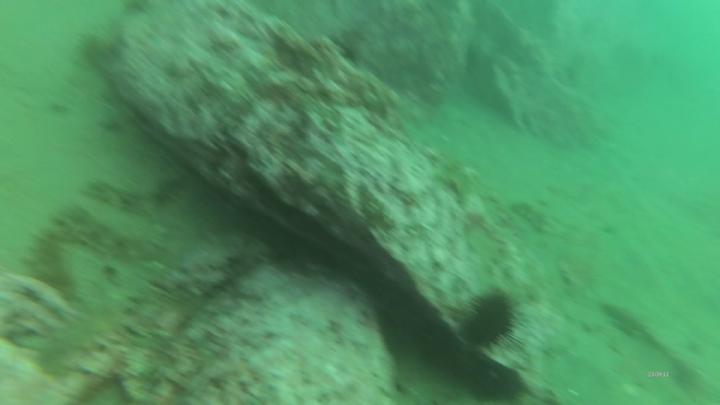echinus: (463, 284, 531, 358)
holothurian: (55, 200, 161, 269), (35, 307, 116, 370), (87, 172, 190, 216), (33, 231, 76, 307)
